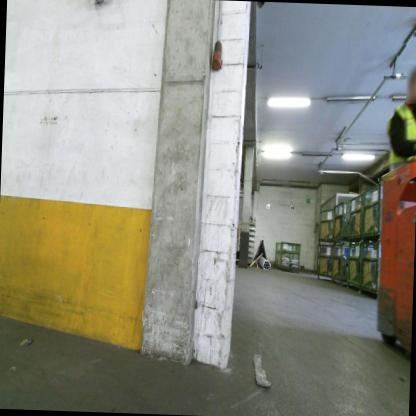pallet_truck: (371, 152, 415, 363)
stillage: (348, 244, 379, 291), (360, 178, 381, 239), (330, 243, 358, 287), (332, 196, 355, 245), (361, 240, 381, 296), (349, 192, 371, 240), (273, 239, 303, 273), (317, 243, 335, 283), (318, 206, 336, 242)
